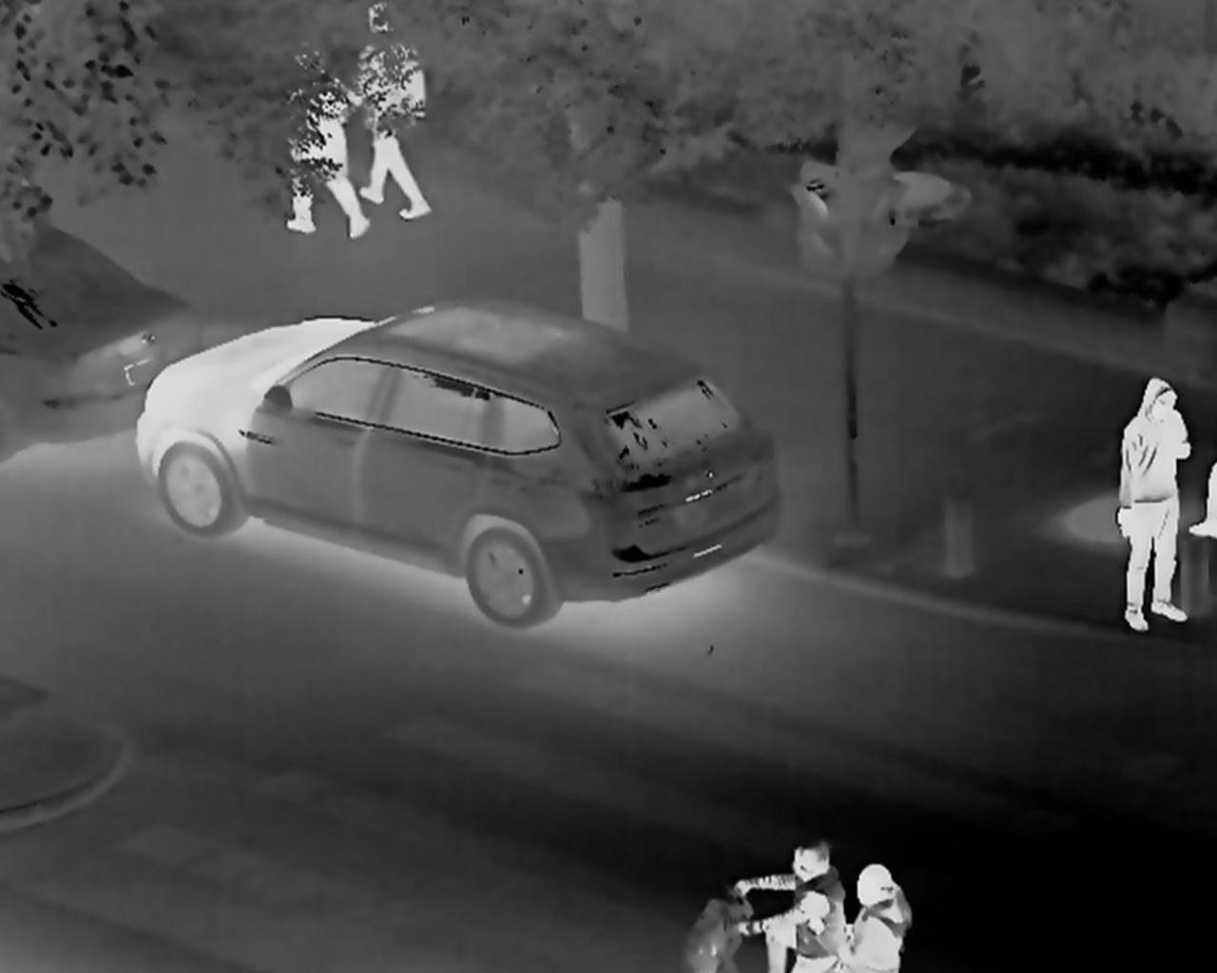person: (1112, 365, 1194, 640), (275, 48, 375, 240), (725, 832, 845, 966), (807, 857, 911, 973)
